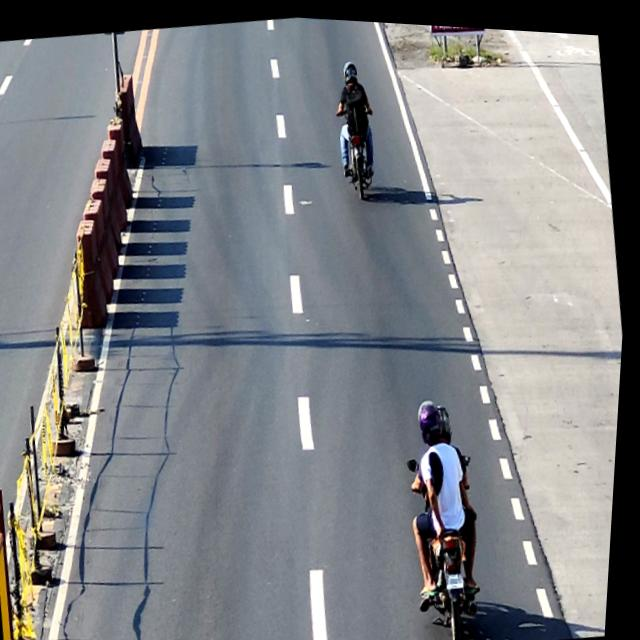License-Plate: (450, 567, 472, 585)
Motorcycle: (402, 441, 502, 640), (332, 92, 387, 198)
